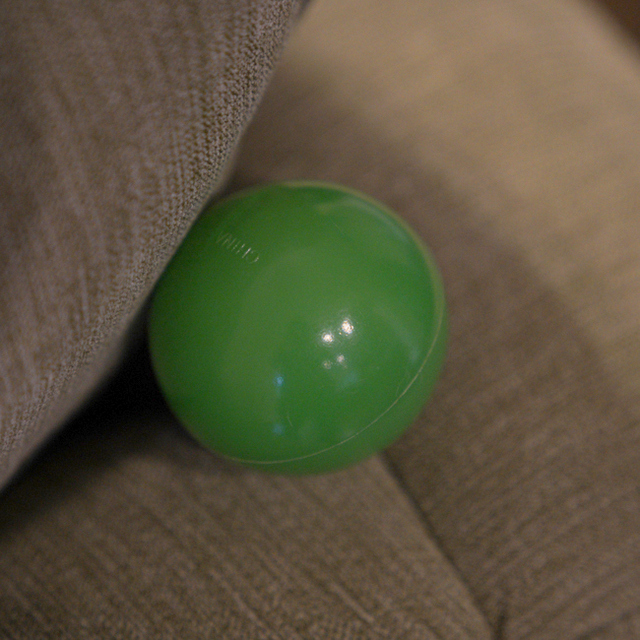Ball: (144, 184, 446, 471)
